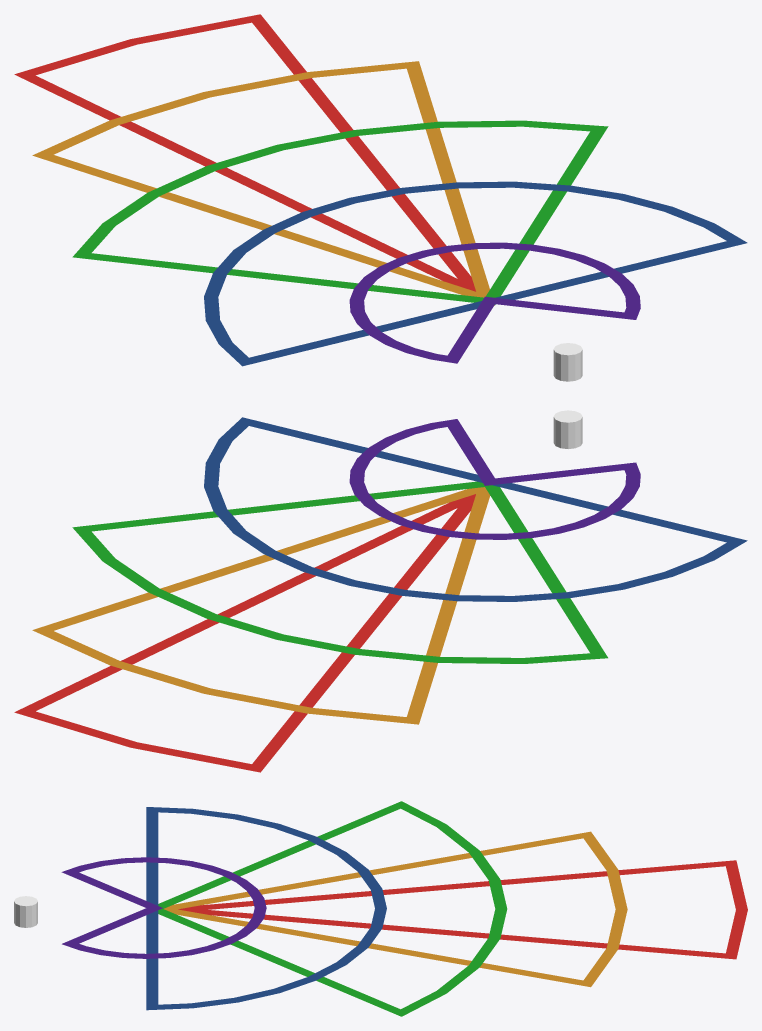
Rendered from m5_col.obj.
The picture shows the model from 3 angles, top to bottom: view 1: azimuth 30°, elevation 25°; view 2: azimuth 150°, elevation 25°; view 3: azimuth 270°, elevation 25°; orthographic projection. The views are drawn at different scales.
Parts seen in each view (by area): view 1: Circle.004; view 2: Circle.004; view 3: Circle.004.
Part boxes in pixels (x1,y1,x2,y2): Circle.004: (14,14,747,381); Circle.004: (14,410,747,772); Circle.004: (14,801,747,1016).
Size of the model in its own units: 4.24 by 0.2 by 6.1.
